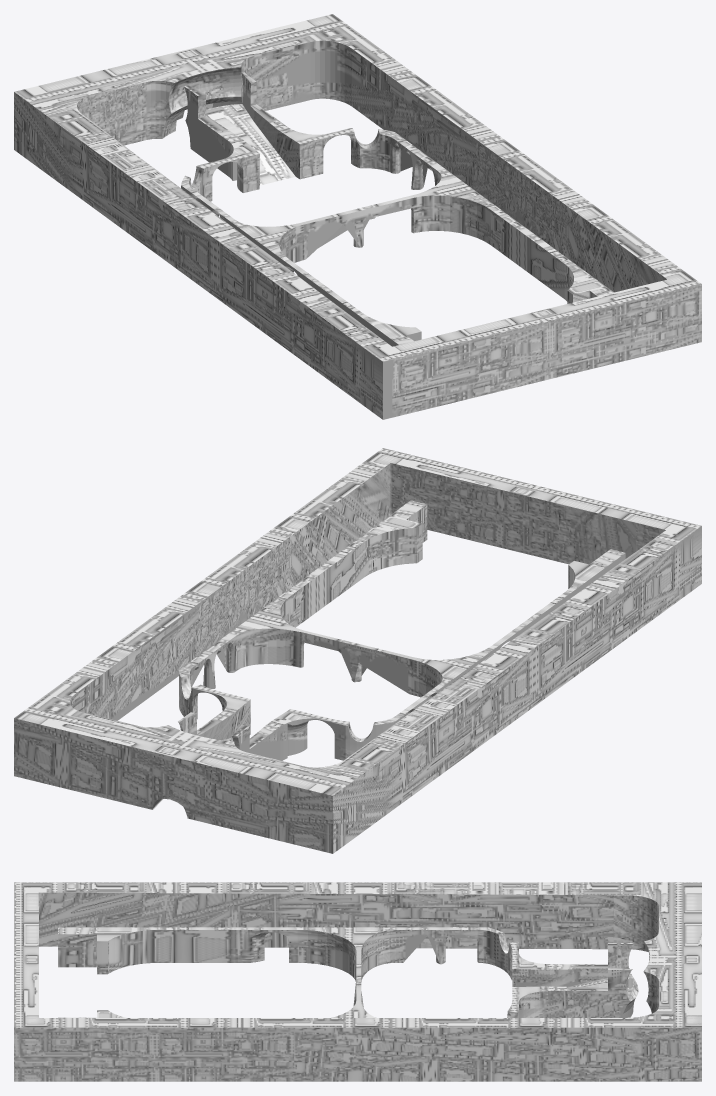
Rendered from TableGrahic.fbx.
3 views of the same model, one above another, from view 1: azimuth 30°, elevation 25°; view 2: azimuth 150°, elevation 25°; view 3: azimuth 270°, elevation 25° (orthographic). The views are drawn at different scales.
Parts seen in each view (by area): view 1: Graphic; view 2: Graphic; view 3: Graphic.
Part boxes in pixels (x1,y1,x2,y2): Graphic: (14, 14, 701, 419); Graphic: (14, 448, 701, 853); Graphic: (14, 882, 701, 1081).
Size of the model in its own units: 145 by 25.12 by 290.
